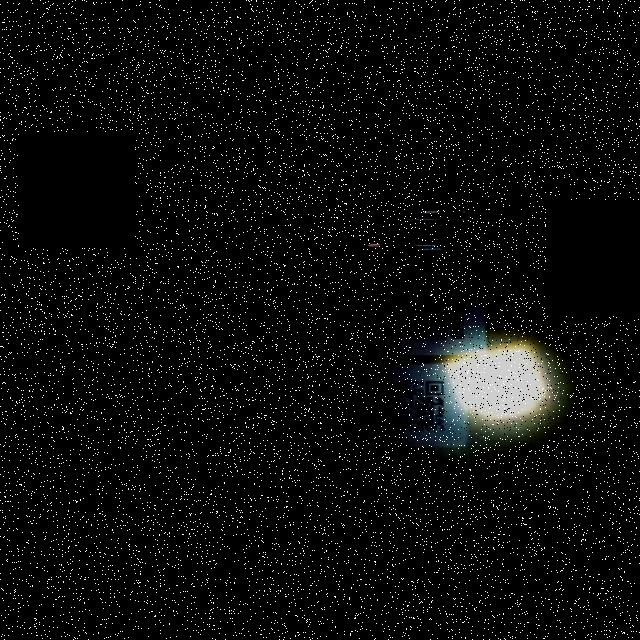QR_CODE: (168, 281, 312, 404), (366, 368, 454, 442), (394, 288, 478, 348)
